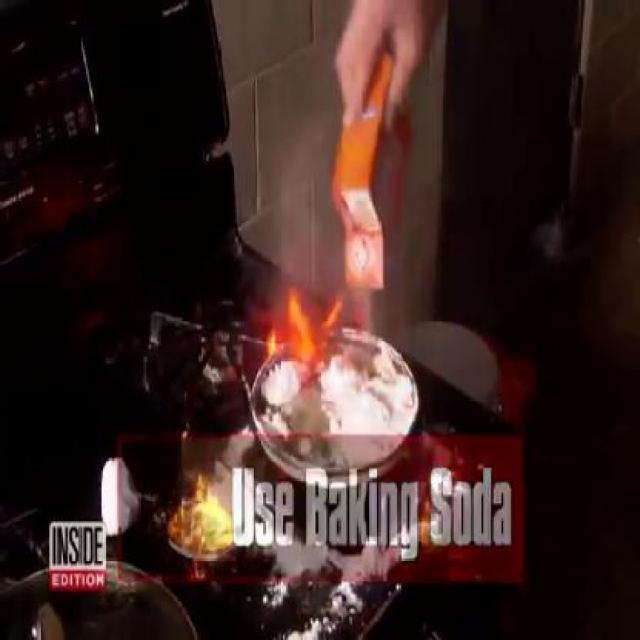fire: (262, 286, 350, 391), (168, 488, 234, 554)
smoke: (264, 148, 334, 267)
